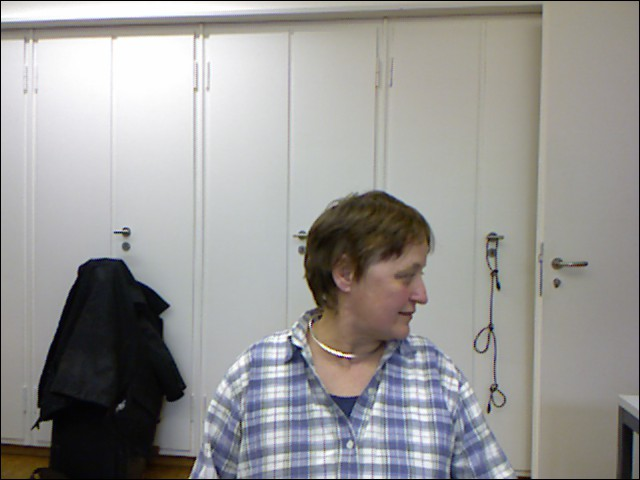deflection: (240, 190, 458, 479)
